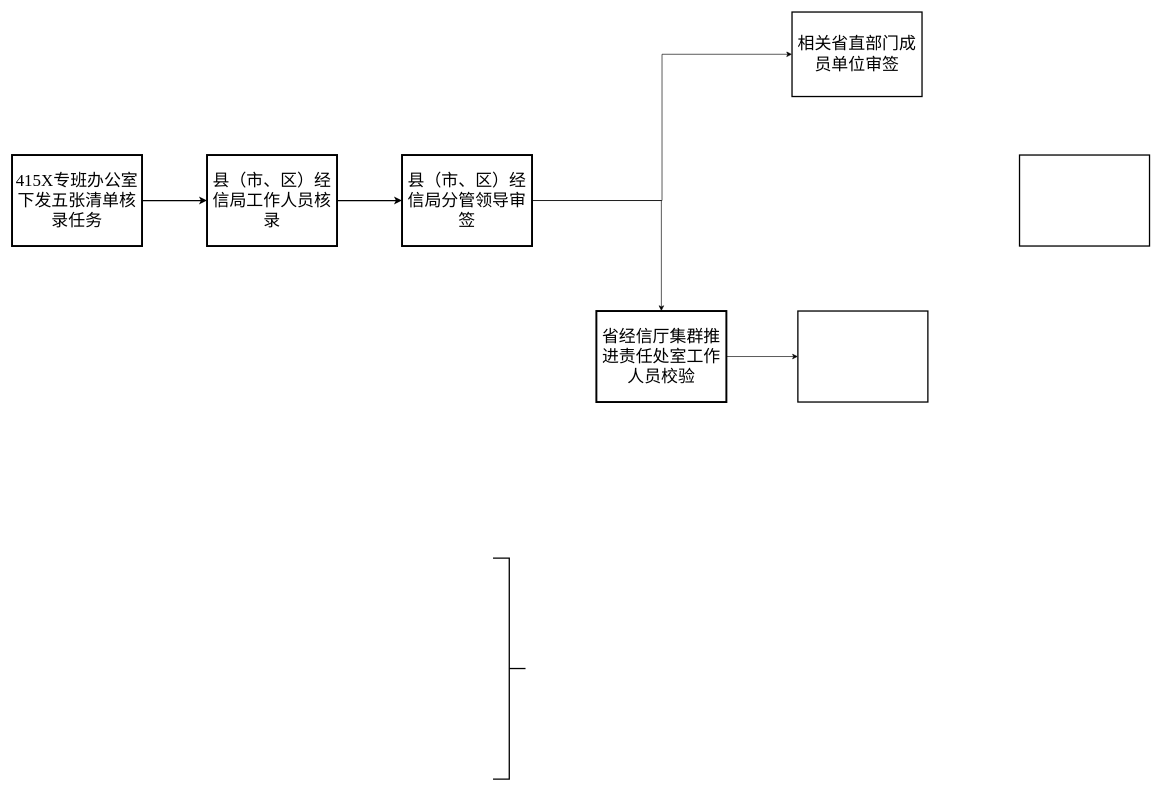
Image size: 1162x790. Some labels were removed from this diagram. The centre of each missing label's shape, as x and y in pixels:
4145X先进制造业集群培育工程分调度平台晾晒: point (1084, 200)
省经信厅集群推进责任处室负责人审签: point (862, 356)
